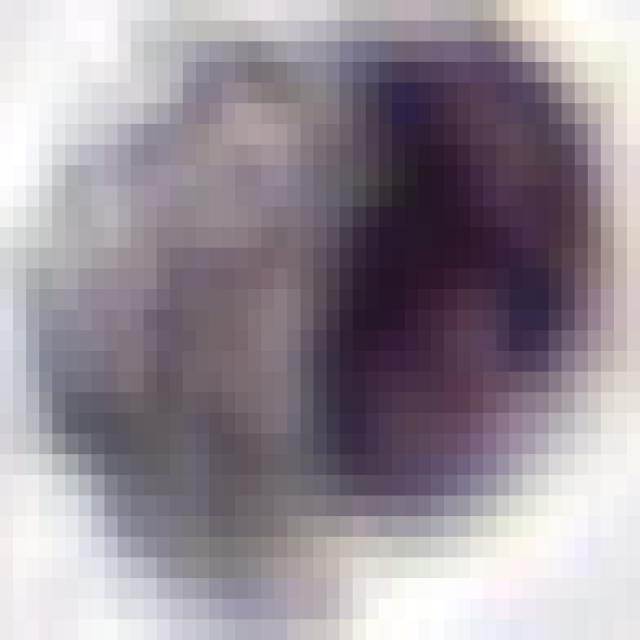nucleus: (288, 52, 622, 545)
